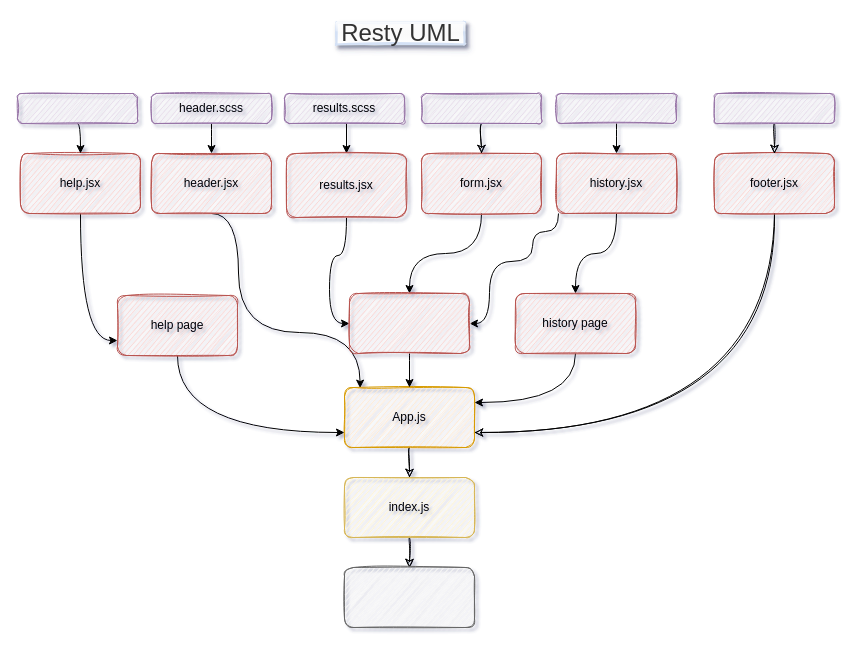
This 858x651 diagram has some shape labels left out. Here are the shapes that lost their labels. From the top down, the centre of each, then its label:
pixel 77 108: help.scss
pixel 481 108: form.scss
pixel 616 108: history.scss
pixel 774 108: footer.scss
pixel 409 323: home page
pixel 409 597: index.html
